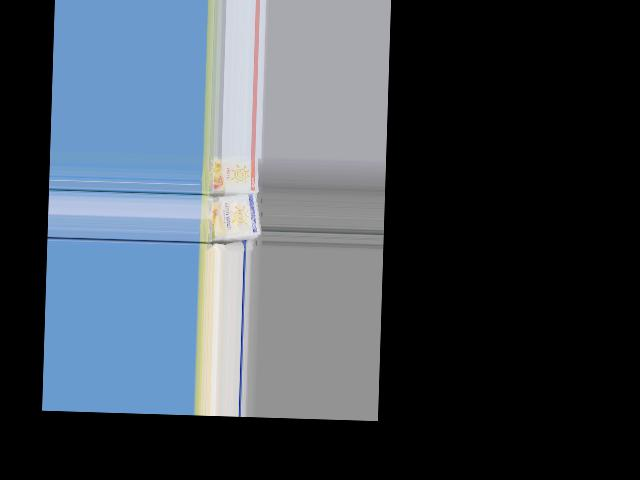cheese: (201, 154, 262, 194)
